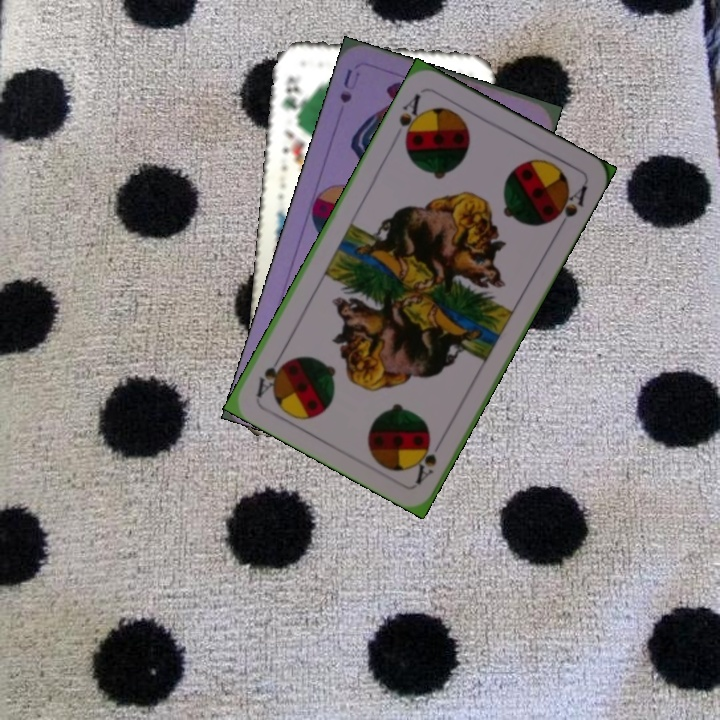GK: (277, 72, 303, 122)
SA: (394, 89, 426, 147), (411, 434, 440, 487)
SU: (335, 64, 362, 106)
